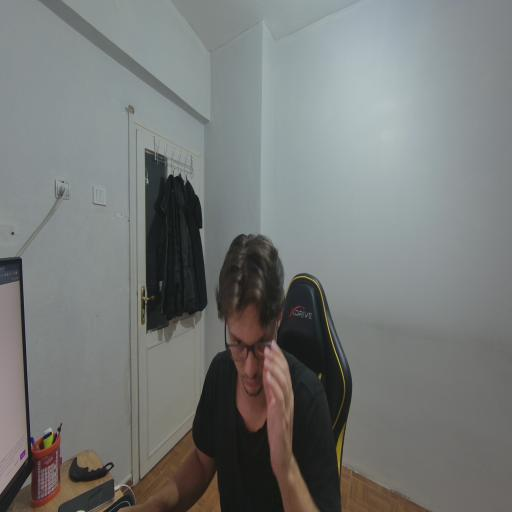cuma-face-v2: (216, 212, 296, 400), (219, 222, 295, 382)
